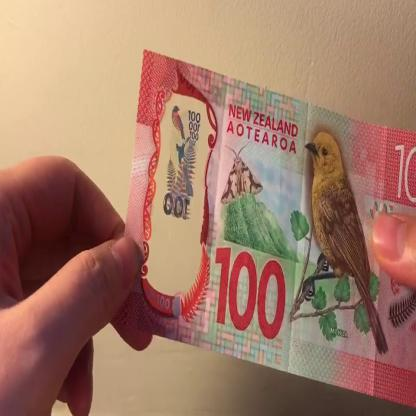100B: (162, 102, 202, 260)
